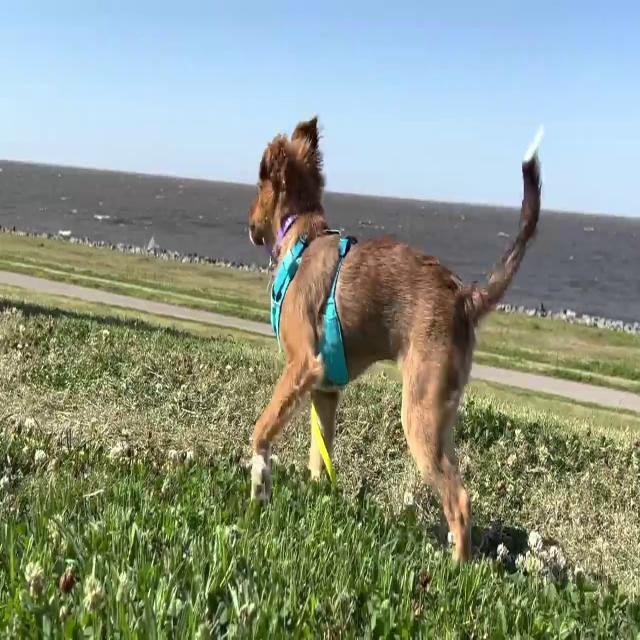Dog: (248, 114, 546, 560)
